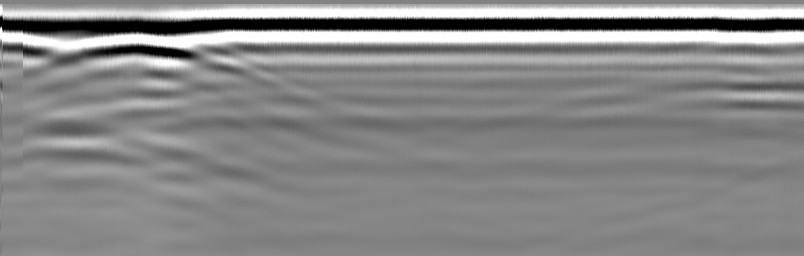steel: (54, 34, 232, 70)
